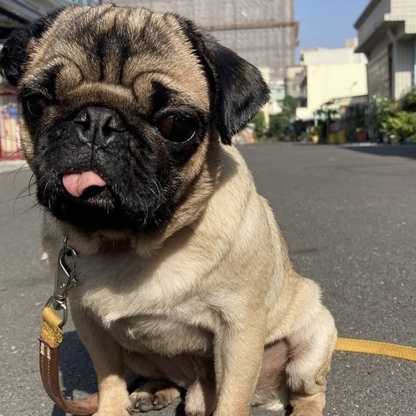Pug: (1, 1, 345, 416)
